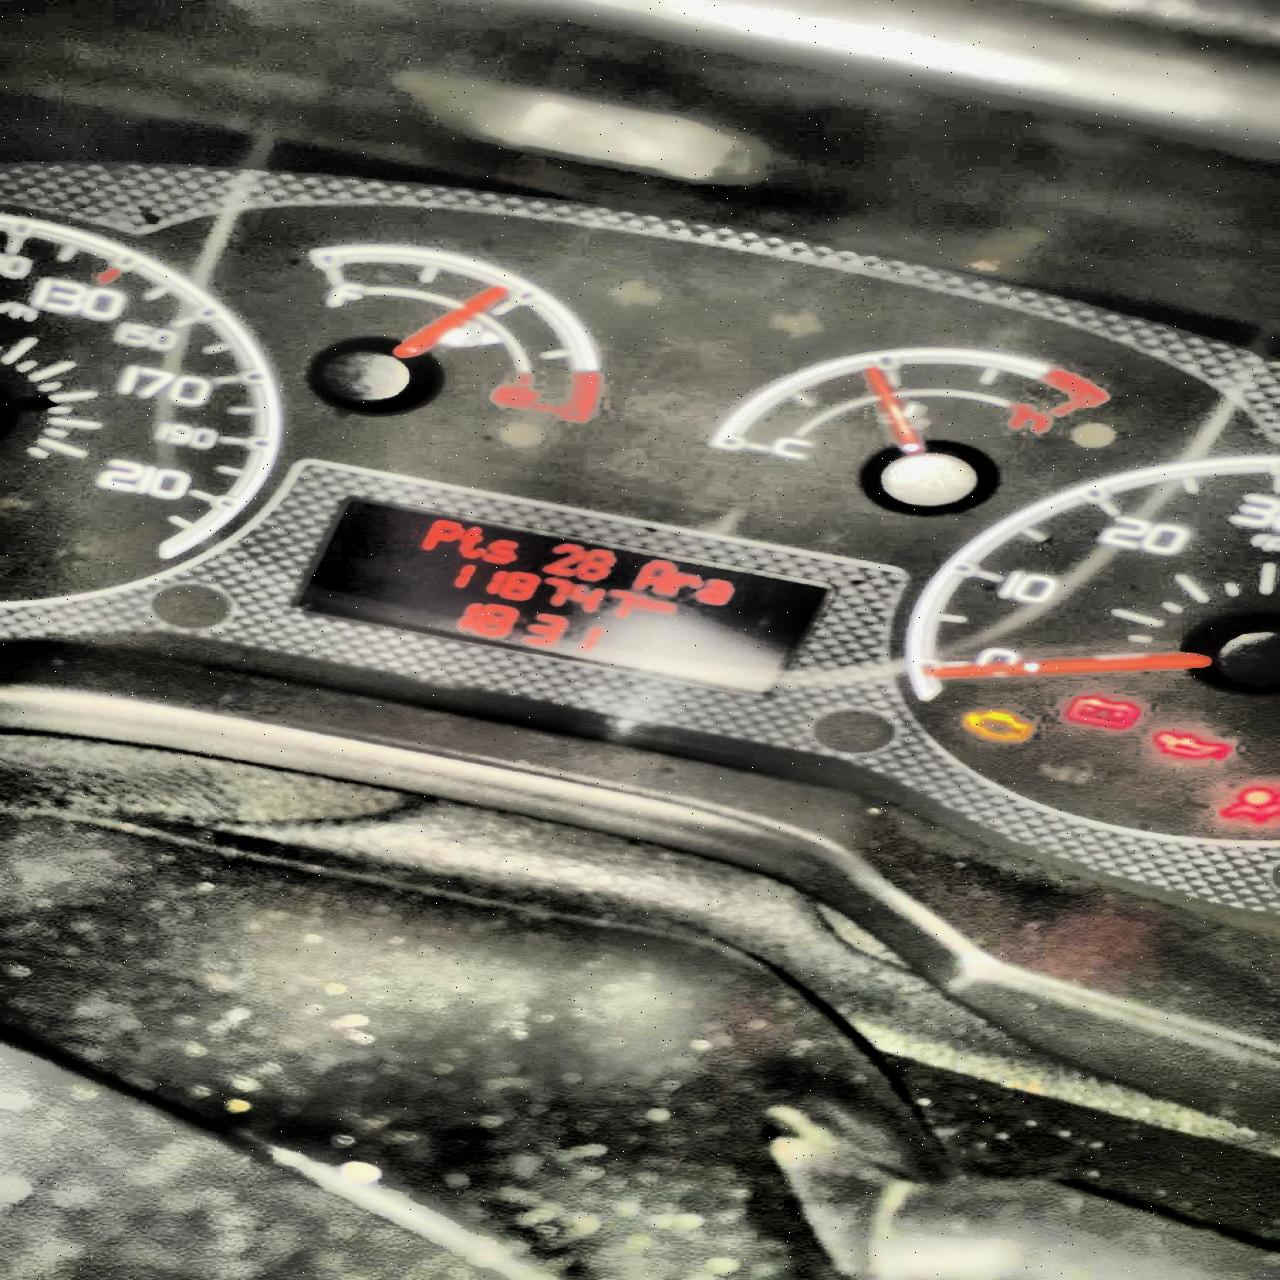1: (578, 622, 605, 654), (455, 600, 481, 632), (451, 561, 471, 592), (485, 567, 504, 594)
2: (542, 542, 581, 576)
3: (523, 611, 565, 646)
4: (571, 583, 604, 611)
7: (544, 576, 570, 604), (613, 586, 636, 617)
8: (481, 601, 517, 636), (581, 545, 617, 580), (503, 568, 540, 600)
X: (418, 516, 459, 550), (631, 558, 669, 592), (700, 576, 731, 605), (485, 536, 518, 564), (462, 526, 486, 560), (669, 572, 696, 599), (634, 594, 655, 611), (654, 600, 674, 617)
odometer: (286, 492, 843, 699)
